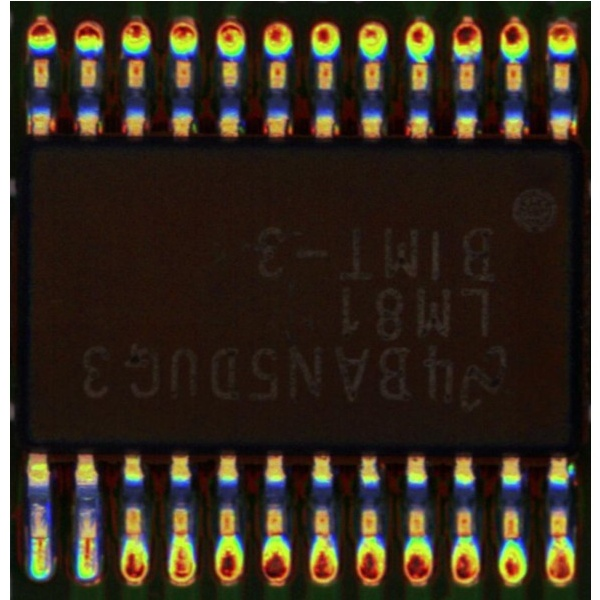Bad_podu: (31, 530, 46, 550), (80, 527, 93, 550)
